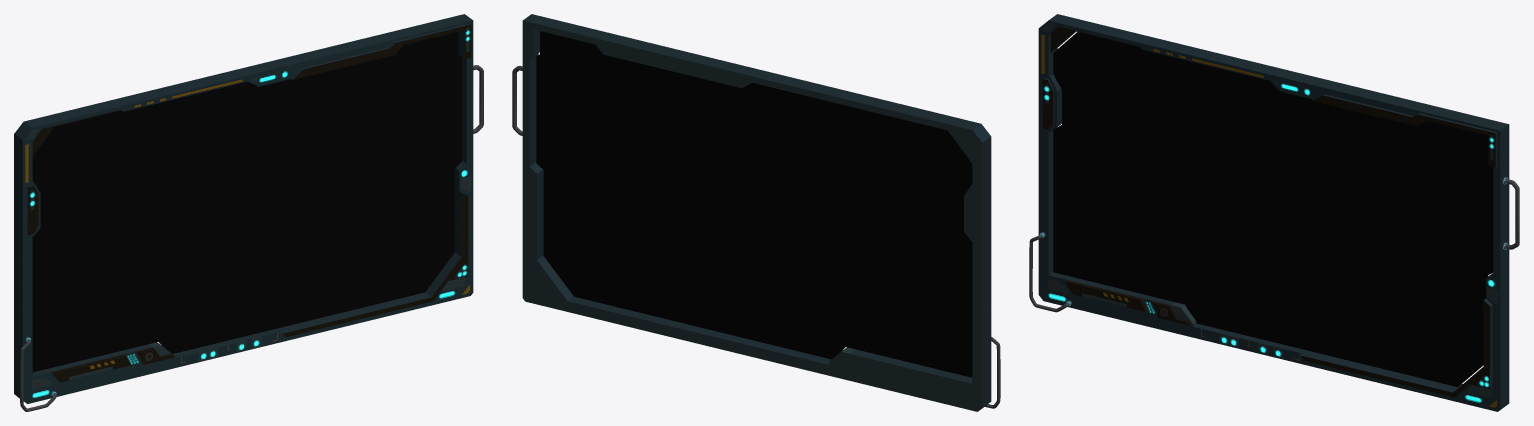
Rendered from sci-fi_display_10.glb.
The picture shows the model from 3 angles, left to right: view 1: azimuth 30°, elevation 25°; view 2: azimuth 150°, elevation 25°; view 3: azimuth 330°, elevation 25°; orthographic projection. The views are drawn at different scales.
Parts seen in each view (by area): view 1: Display, Main; view 2: Display, Main; view 3: Display, Main.
Part boxes in pixels (box(x1,y1,x2,y2)): Display: box(32, 32, 461, 372); Main: box(14, 14, 483, 411); Display: box(536, 31, 972, 377); Main: box(512, 14, 1000, 411); Display: box(1053, 32, 1493, 386); Main: box(1029, 14, 1519, 411).
Size of the model in its own units: 0.5592 by 0.3175 by 0.0263.
Materials: 2 (1 with a texture image).
